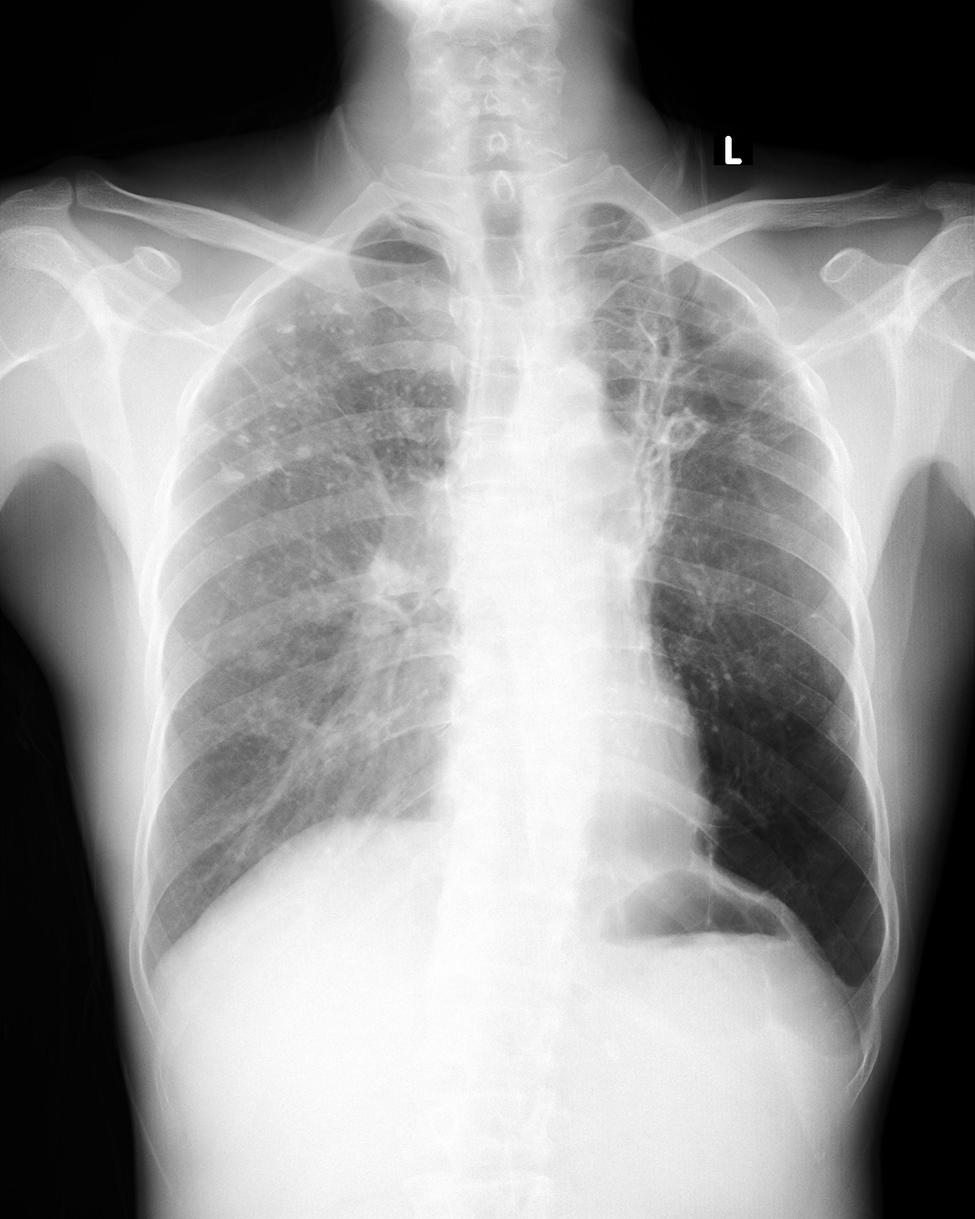Pleural thickening: (804, 930, 884, 1071)
Pulmonary fibrosis: (201, 282, 453, 764), (577, 215, 801, 606)
